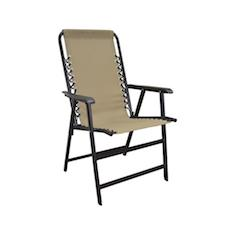chair: (25, 9, 188, 198)
